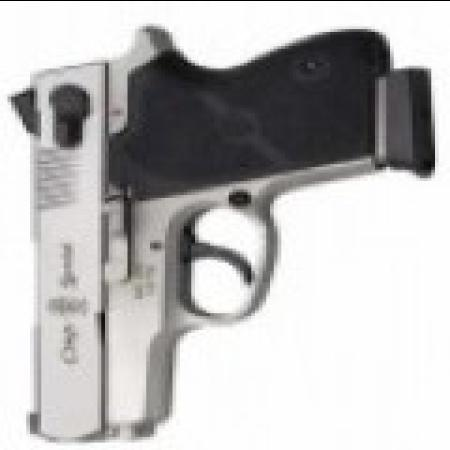Pistol: (15, 28, 443, 447)
